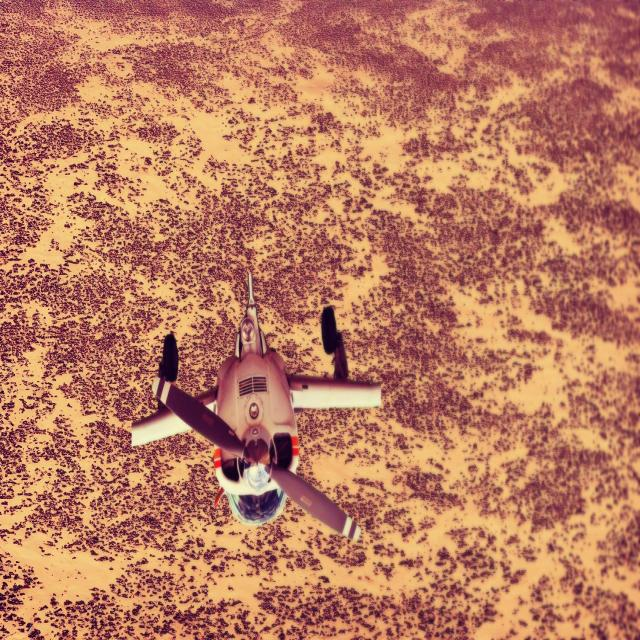airplane: (130, 271, 382, 543)
